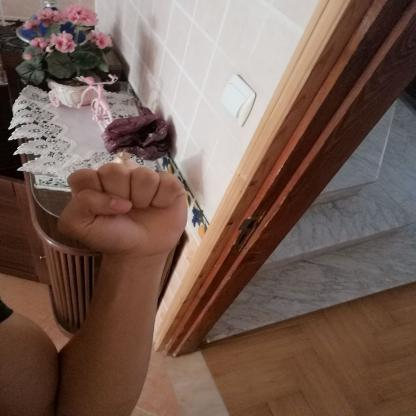SAD: (35, 150, 199, 271)
